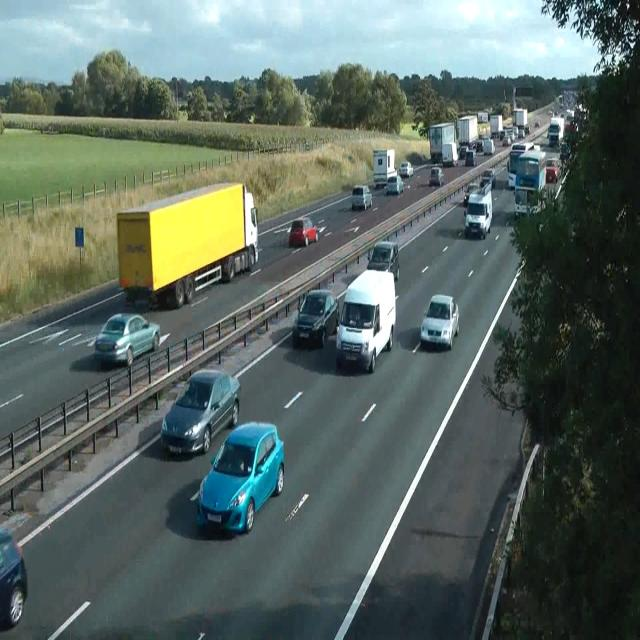bus: (196, 421, 284, 535), (94, 312, 160, 368), (291, 289, 339, 349), (0, 526, 28, 628), (419, 294, 459, 351), (366, 240, 399, 283), (286, 217, 318, 247), (351, 185, 372, 210), (545, 157, 561, 183), (384, 174, 403, 195), (463, 182, 479, 205), (480, 168, 496, 189), (429, 166, 444, 187), (399, 160, 413, 177), (560, 140, 570, 162), (471, 139, 483, 153), (465, 150, 475, 166), (458, 145, 468, 158)
car: (513, 148, 547, 220)
jeep: (160, 367, 240, 455), (463, 185, 492, 238)
minibus: (116, 182, 258, 310), (336, 268, 396, 374), (506, 142, 540, 188), (429, 122, 457, 165), (372, 148, 397, 188), (457, 113, 479, 155), (512, 107, 530, 137), (548, 116, 564, 146), (477, 111, 491, 139), (442, 142, 458, 166), (490, 114, 504, 140)
